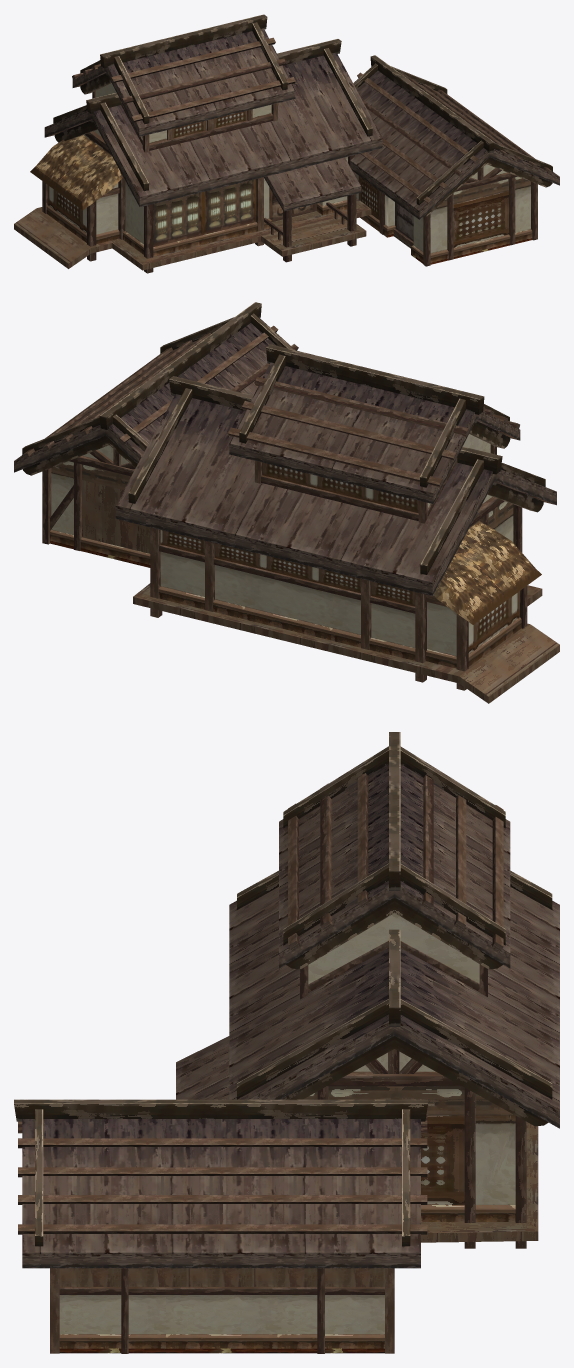
File: 4House_Textures.fbx
The picture shows the model from 3 angles, top to bottom: view 1: azimuth 30°, elevation 25°; view 2: azimuth 150°, elevation 25°; view 3: azimuth 270°, elevation 25°; orthographic projection. The views are drawn at different scales.
Parts seen in each view (by area): view 1: cadnav; view 2: cadnav; view 3: cadnav.
Part boxes in pixels (bbox=[...]): cadnav: bbox=[14, 14, 559, 273]; cadnav: bbox=[14, 302, 559, 703]; cadnav: bbox=[14, 732, 559, 1353].
Bounding box in the file's own units: 2463 × 1145 × 1687.
